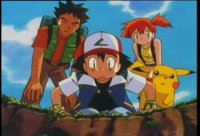pikachu: (132, 61, 194, 109)
